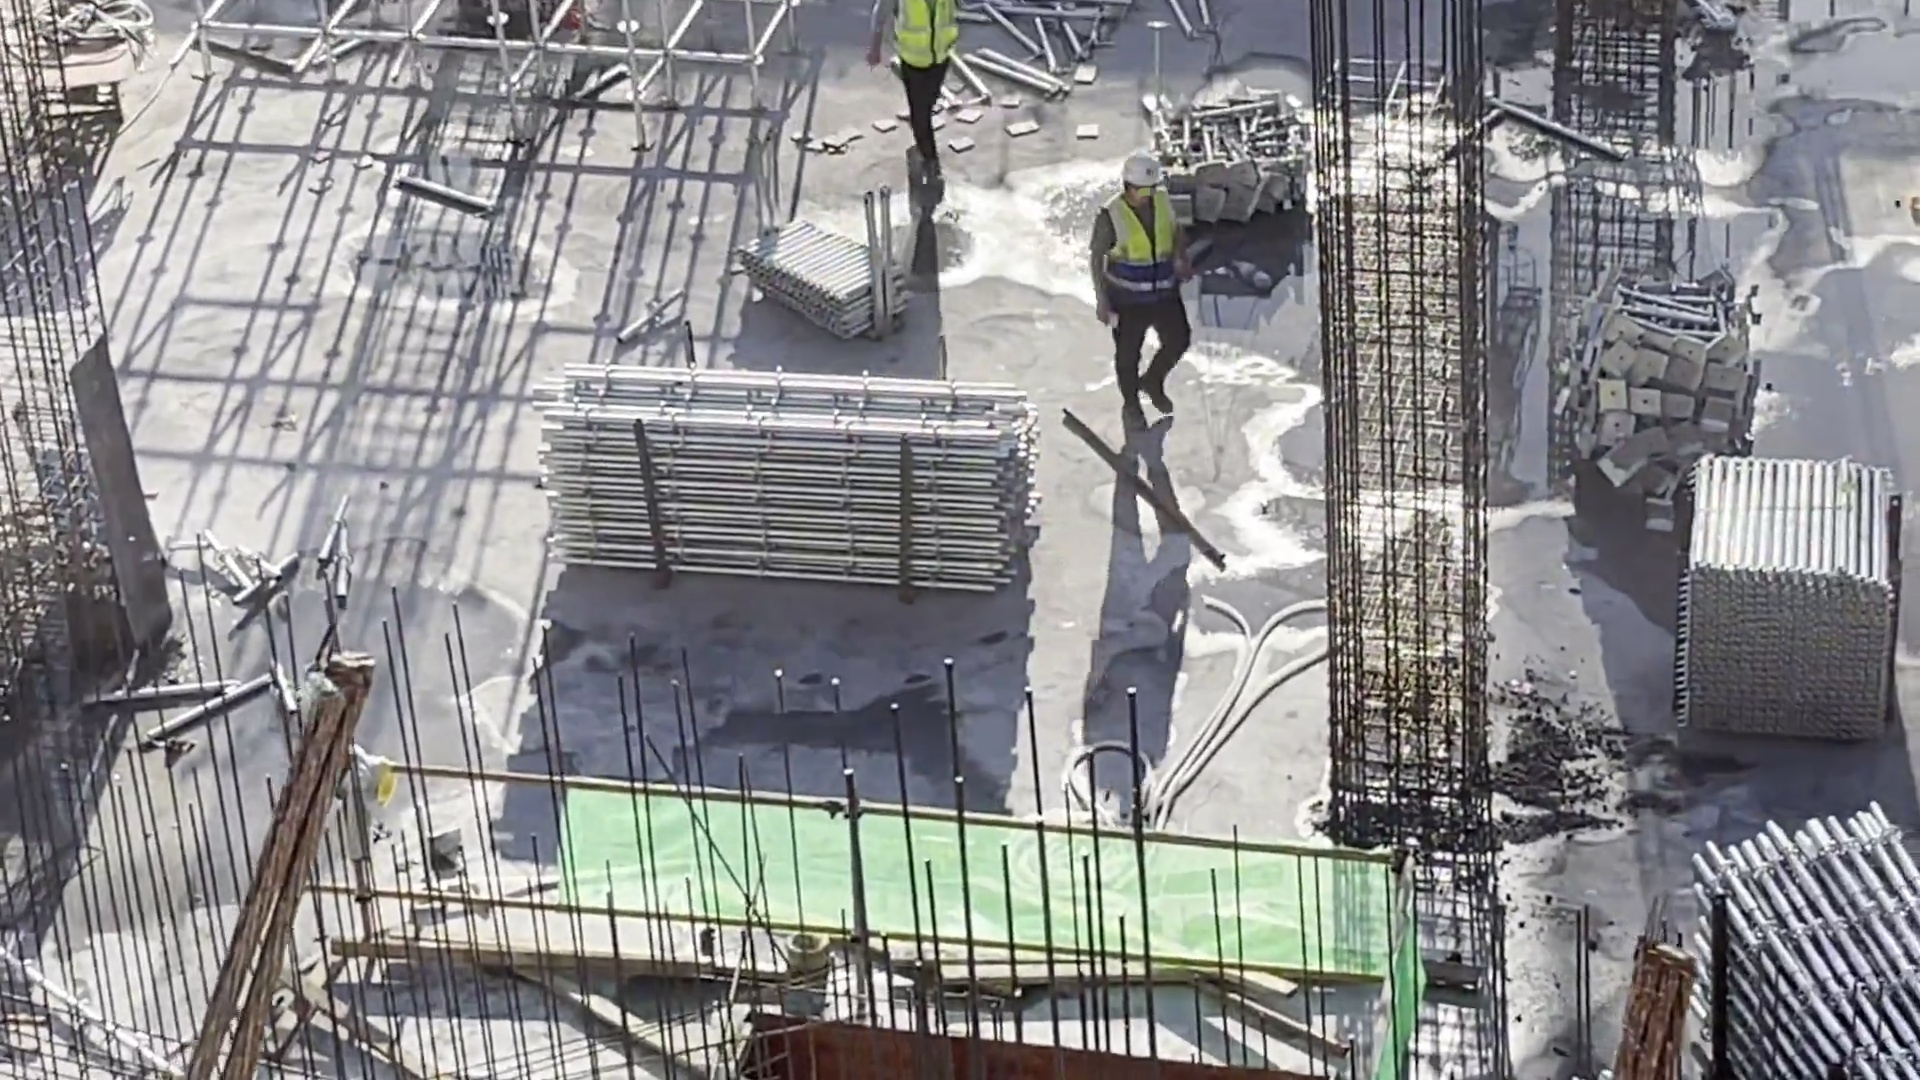helmet: (1116, 160, 1165, 195)
person: (1078, 148, 1196, 439), (860, 1, 981, 190)
scaffold: (535, 372, 1039, 579), (1674, 473, 1882, 765), (1705, 818, 1920, 1080), (753, 230, 894, 333)
vest: (1111, 199, 1180, 306), (896, 3, 963, 69)
